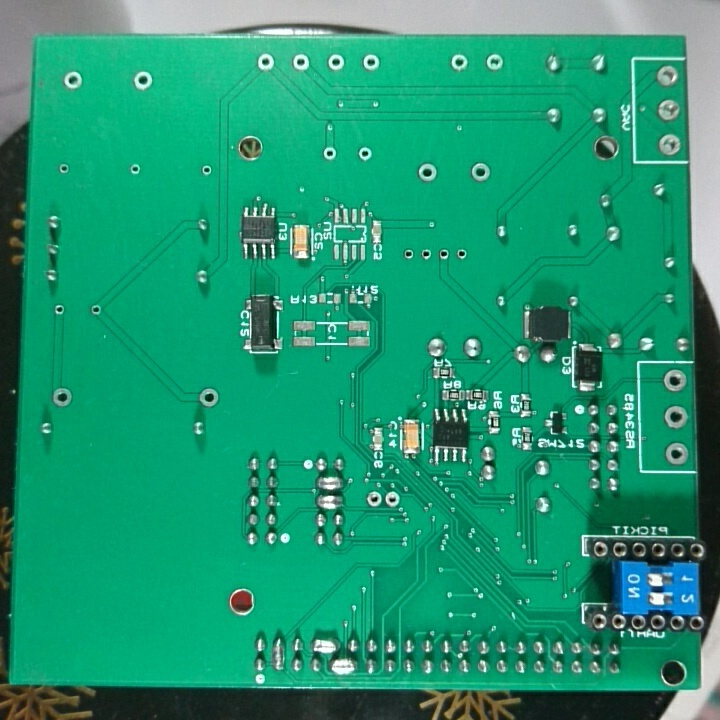F: (662, 403, 690, 432), (662, 438, 688, 466), (656, 131, 682, 158), (656, 97, 682, 123), (662, 367, 689, 392), (654, 63, 679, 89), (131, 69, 154, 94), (60, 70, 87, 91), (197, 386, 221, 409), (254, 52, 278, 75), (415, 161, 440, 183), (469, 159, 491, 184), (51, 386, 74, 408), (359, 51, 381, 74), (484, 50, 505, 74), (448, 52, 470, 74), (325, 51, 346, 74), (354, 142, 374, 166), (290, 50, 309, 74), (319, 143, 339, 163), (383, 490, 402, 511), (451, 244, 470, 264), (417, 244, 436, 263), (88, 300, 105, 320), (434, 245, 452, 263), (365, 491, 383, 508), (400, 246, 417, 263), (128, 162, 144, 178), (56, 161, 71, 177), (199, 163, 214, 178), (51, 301, 65, 317)
P: (309, 633, 343, 654), (328, 654, 358, 676), (314, 492, 348, 511), (271, 632, 286, 673), (314, 473, 345, 492)
